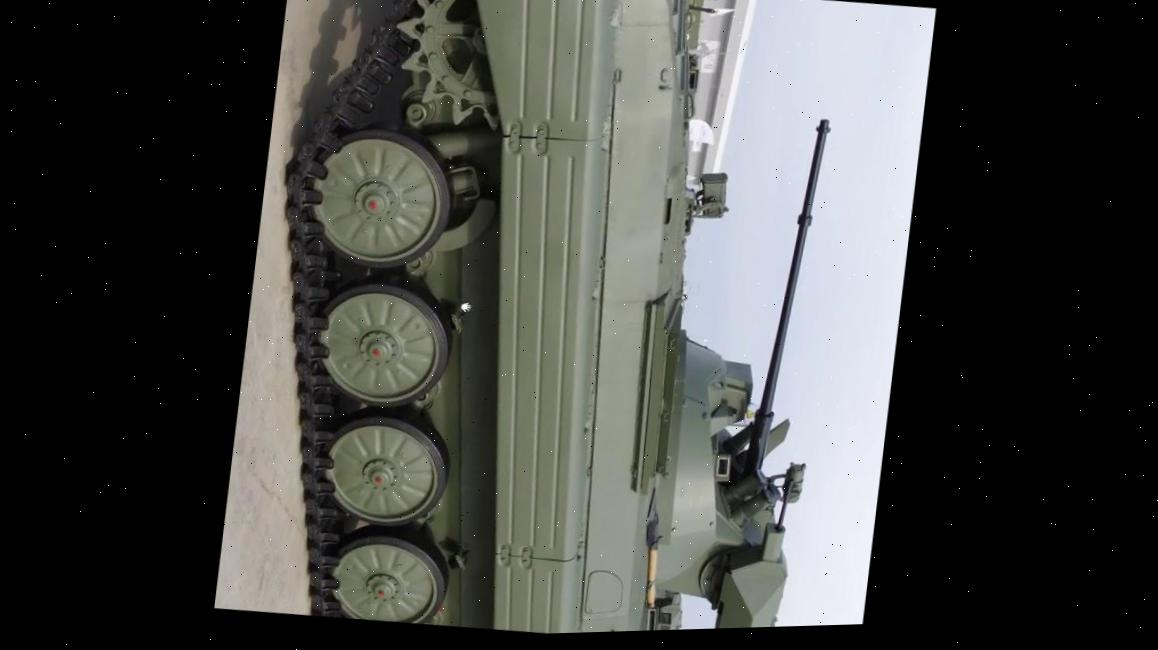tank: (225, 0, 859, 643)
